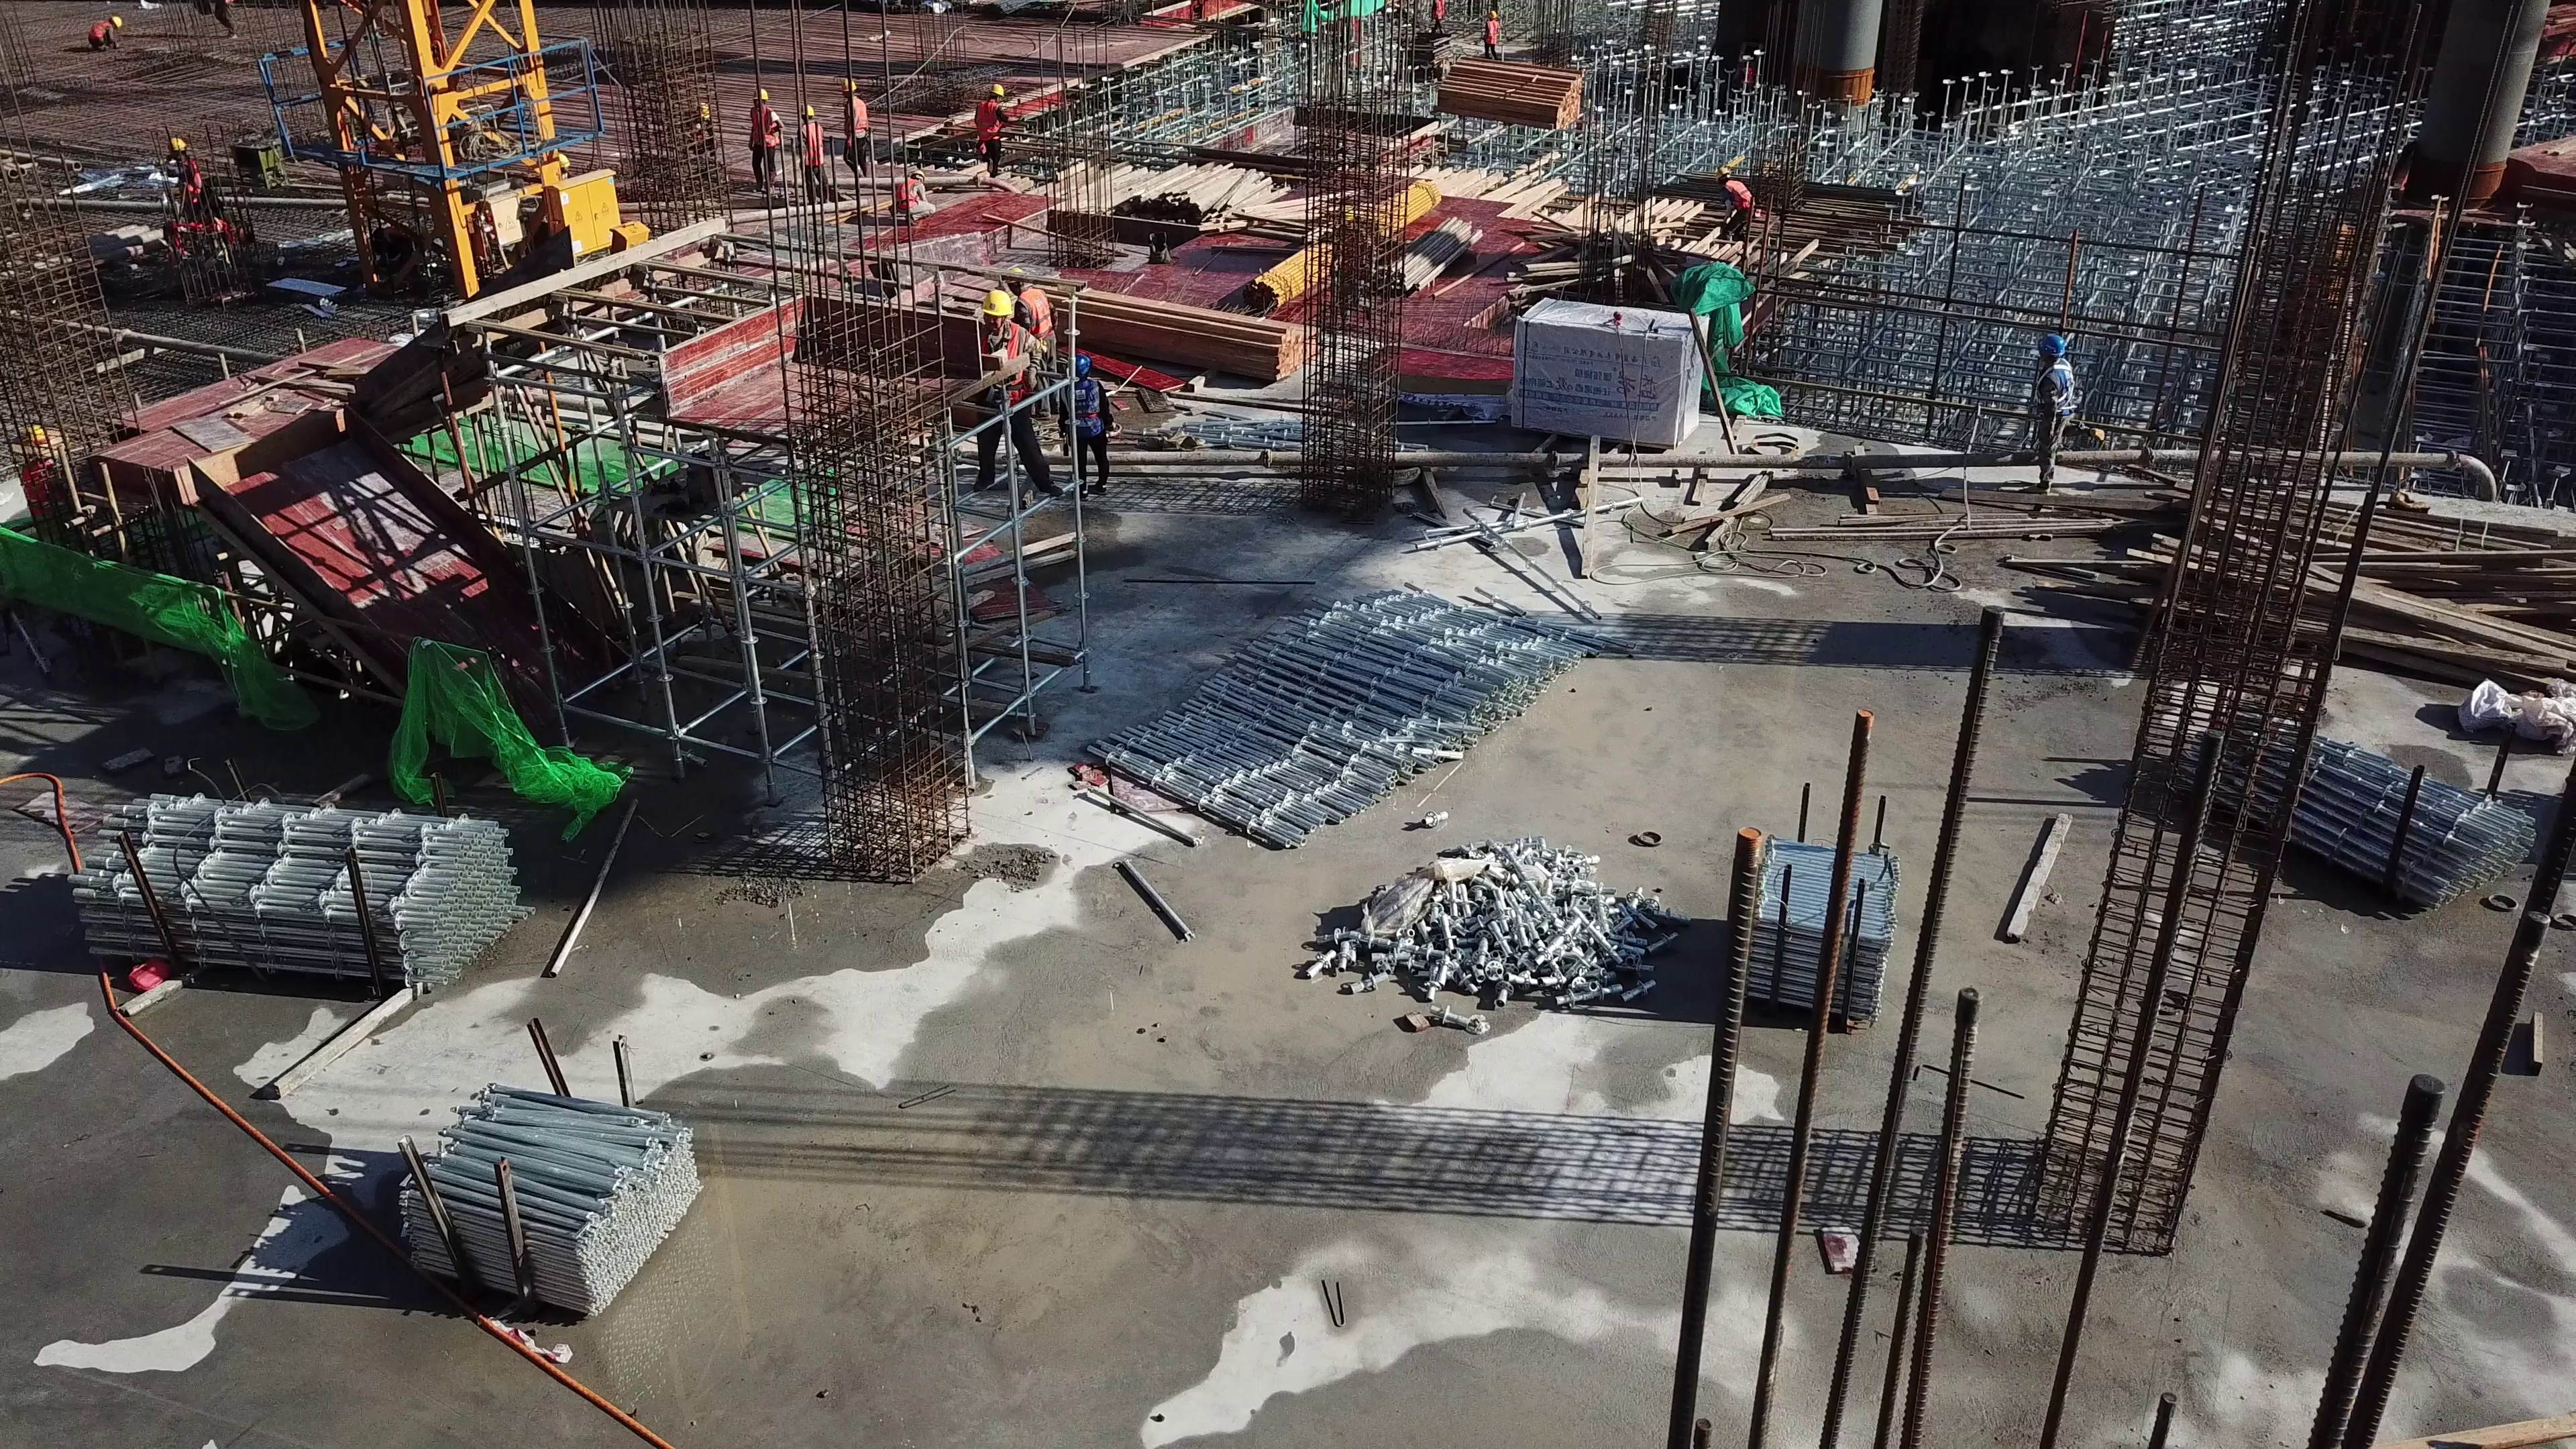board: (1374, 352, 1504, 409), (943, 264, 1036, 311)
ebox: (543, 172, 625, 267), (478, 201, 533, 272)
helmet: (979, 288, 1012, 318), (2035, 334, 2068, 358), (25, 426, 48, 447), (1074, 354, 1092, 378), (168, 136, 187, 156), (910, 166, 926, 184), (799, 100, 816, 118), (555, 150, 569, 171), (695, 100, 708, 121), (756, 86, 769, 104), (843, 74, 857, 92), (989, 83, 1006, 98), (1713, 167, 1728, 177), (111, 13, 121, 25), (1487, 9, 1499, 18)
person: (971, 290, 1066, 498), (2027, 334, 2106, 495), (1061, 353, 1116, 502), (1010, 266, 1059, 419), (1330, 205, 1375, 335), (167, 135, 220, 223), (749, 86, 781, 196), (794, 105, 828, 205), (973, 85, 1007, 180), (1716, 166, 1755, 247), (841, 76, 868, 180), (890, 169, 939, 227), (680, 102, 722, 160), (87, 17, 121, 49), (1481, 10, 1500, 58), (212, 1, 239, 34), (1739, 54, 1754, 91), (1431, 1, 1447, 34)
scaffold: (1089, 606, 1597, 842), (65, 787, 516, 987), (388, 1083, 692, 1316), (2171, 713, 2510, 914), (1741, 837, 1908, 1028)
vest: (977, 322, 1023, 401), (2035, 359, 2071, 412), (1019, 288, 1053, 339), (1068, 378, 1099, 435), (800, 125, 824, 168), (752, 104, 775, 149), (977, 101, 1002, 141), (847, 97, 865, 134), (1729, 180, 1749, 210), (896, 178, 914, 207), (91, 19, 109, 40), (1486, 19, 1496, 42), (1434, 1, 1442, 18)
wood: (1070, 283, 1319, 378), (1438, 54, 1580, 127)
